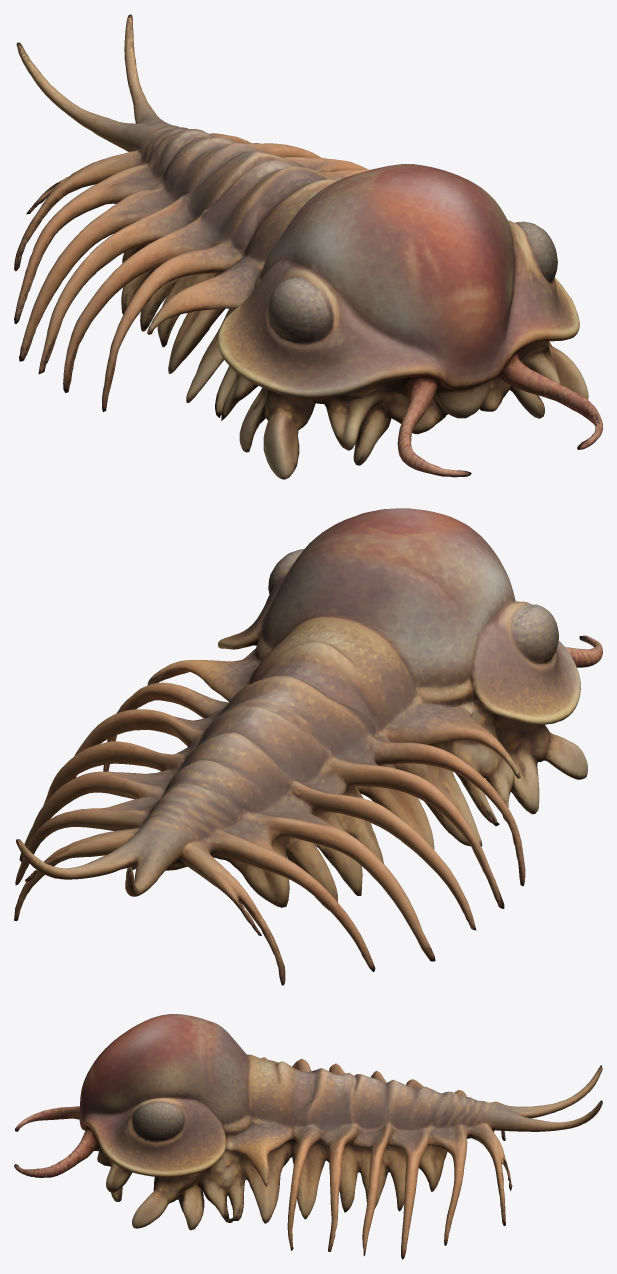
3 renders of one model, top to bottom at view 1: azimuth 30°, elevation 25°; view 2: azimuth 150°, elevation 25°; view 3: azimuth 270°, elevation 25°, orthographic. The views are drawn at different scales.
Visible parts, largest first — view 1: world; view 2: world; view 3: world.
Part boxes in pixels (x1,y1,x2,y2): world: (14,14,602,479); world: (14,508,602,985); world: (14,1014,602,1259).
Size of the model in its own units: 0.0196 by 0.0112 by 0.0351.
1 material, 1 textured.
